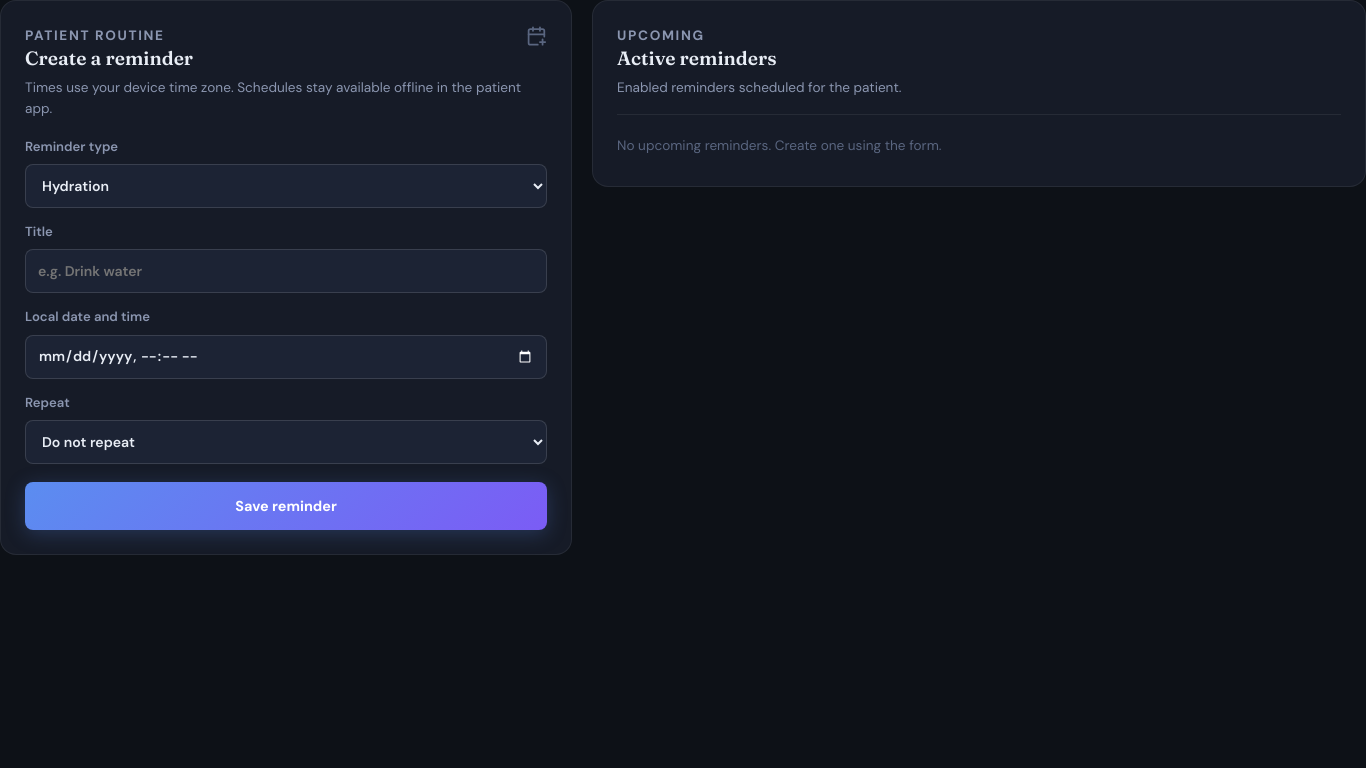
RemindersPage › requires explicit caregiver confirmation for medication schedules
Select "Medication schedule" in the dropdown labelled "Reminder type" at (286, 186), box x1=25 y1=164 x2=547 y2=208
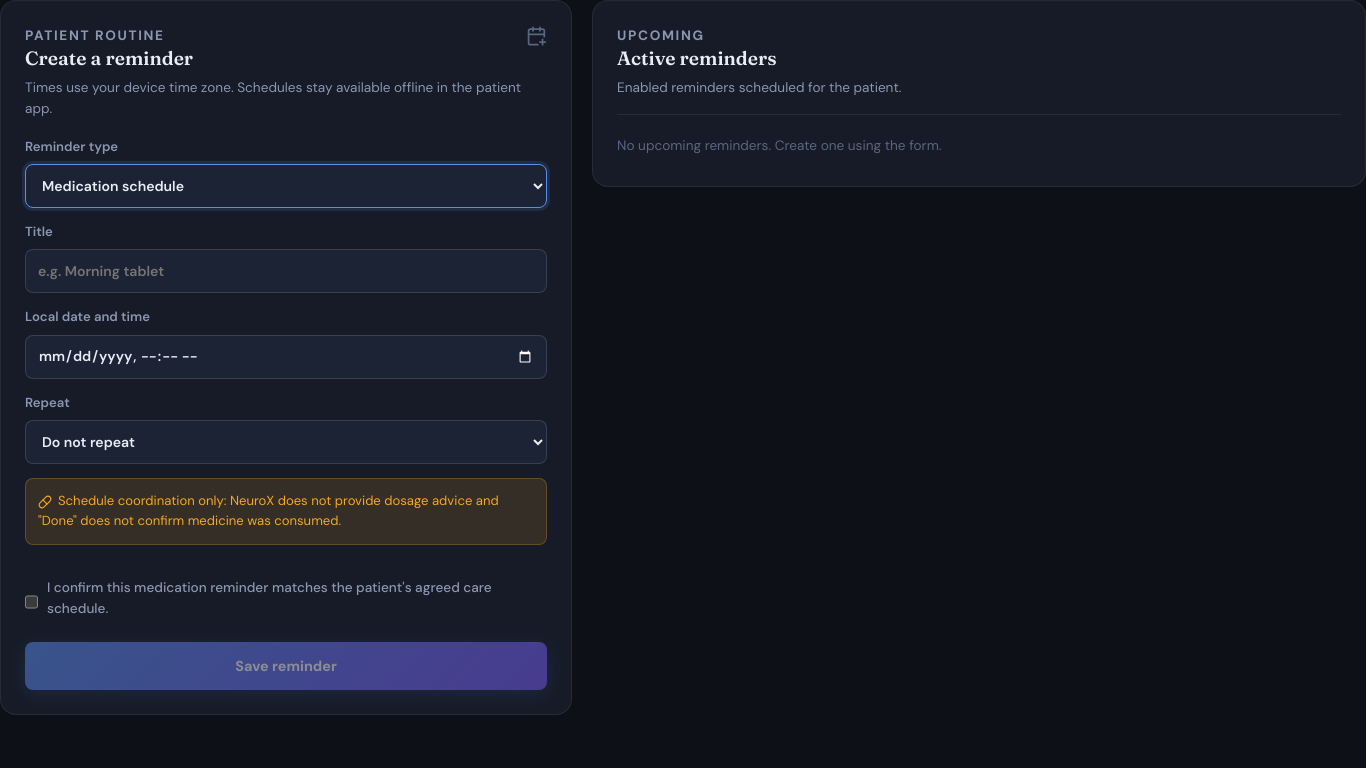
Now the text "does not provide dosage advice" is shown, box x1=38 y1=492 x2=499 y2=529
Now the button "Save reminder" is disabled, box x1=25 y1=642 x2=547 y2=690
Click the checkbox labelled "I confirm this medication reminder" at (32, 602), box x1=25 y1=580 x2=38 y2=624
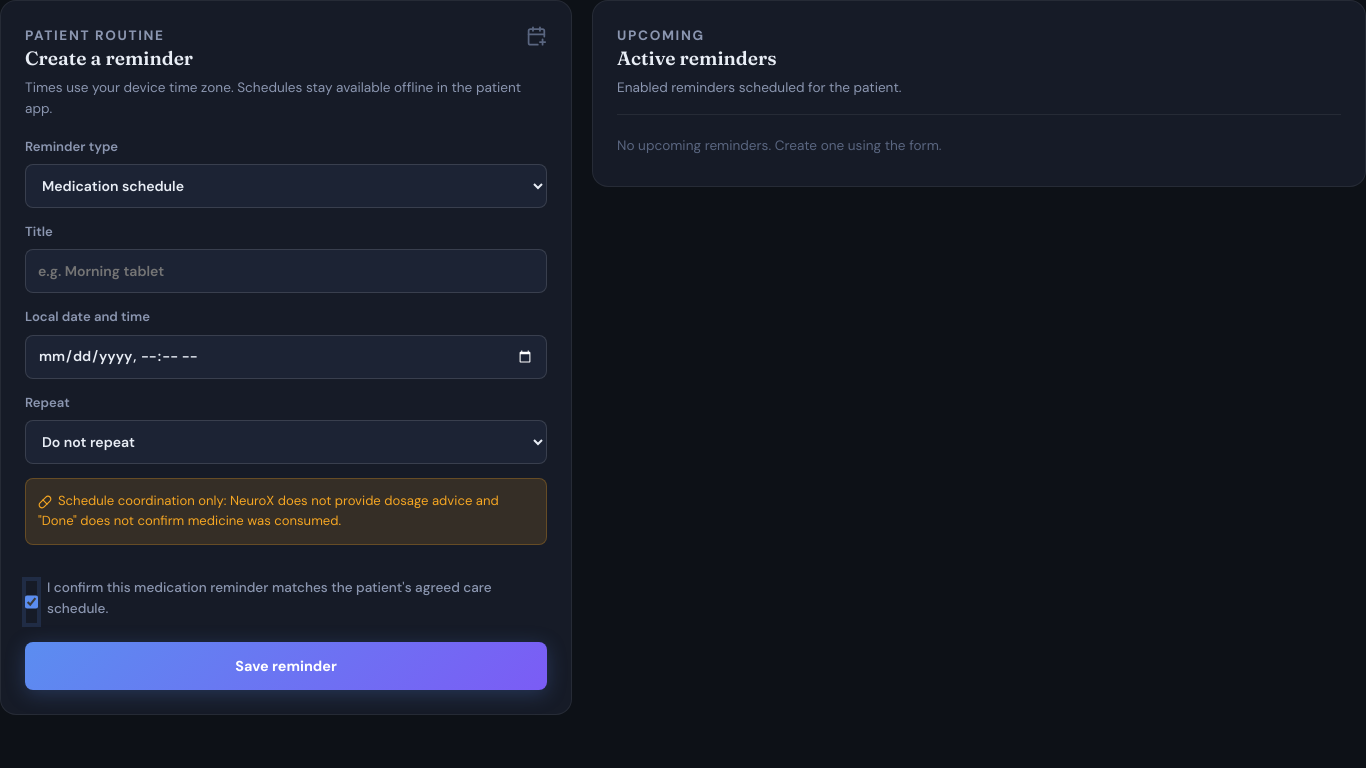
Now the button "Save reminder" is enabled, box x1=25 y1=642 x2=547 y2=690
